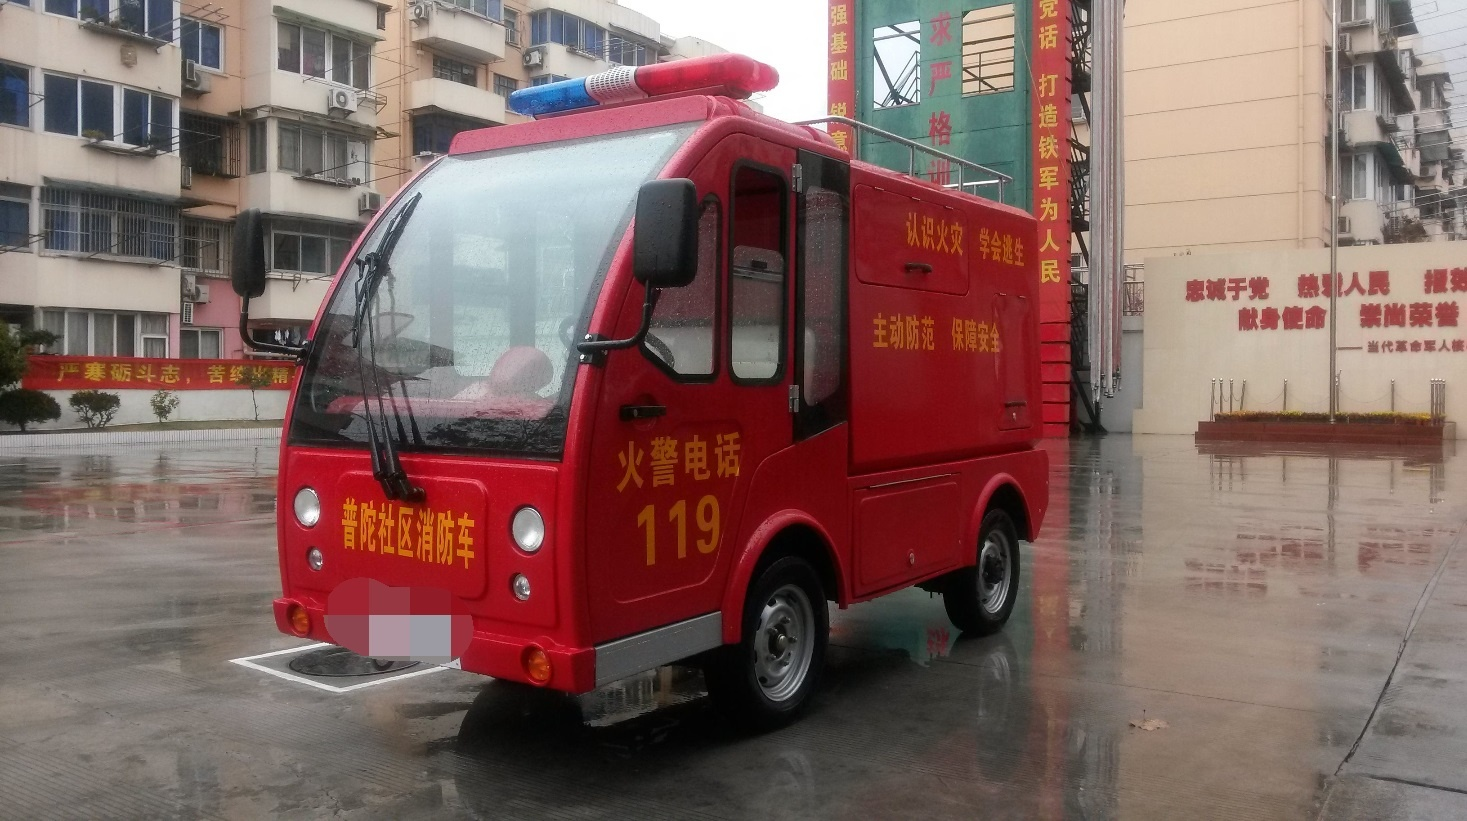fire engine: (215, 59, 1057, 730)
